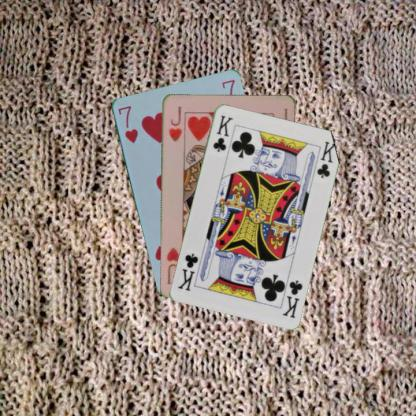7h: (115, 102, 139, 144)
Jh: (166, 103, 184, 143)
Kc: (210, 112, 235, 153), (279, 277, 303, 319)
